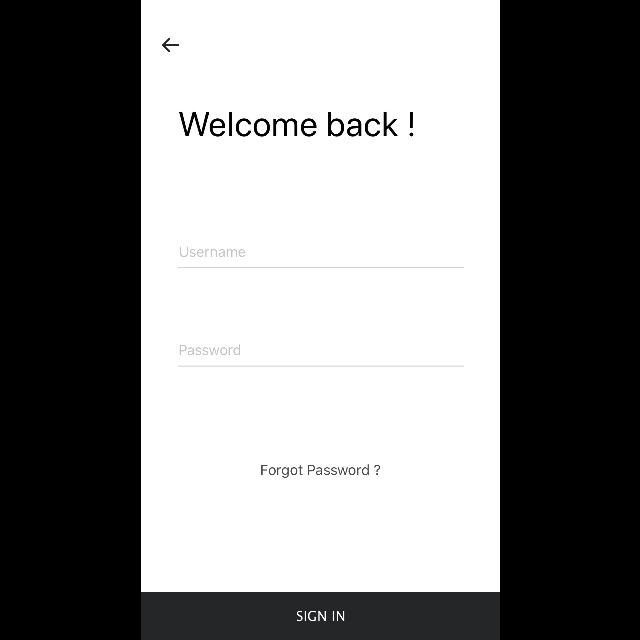icon: (162, 38, 178, 52)
input: (178, 345, 464, 367), (178, 247, 464, 269)
text: (178, 112, 414, 136), (260, 464, 380, 478), (180, 344, 240, 356), (180, 247, 244, 257)
textbutton: (140, 592, 500, 640)
